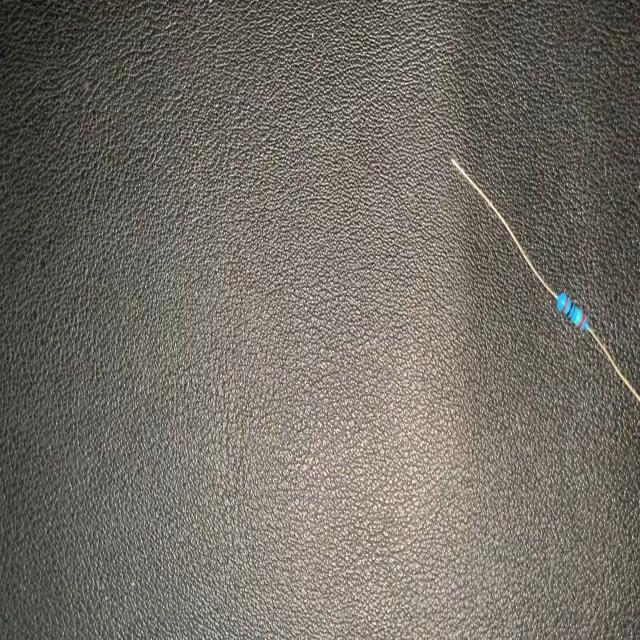resistor: (445, 145, 640, 403)
